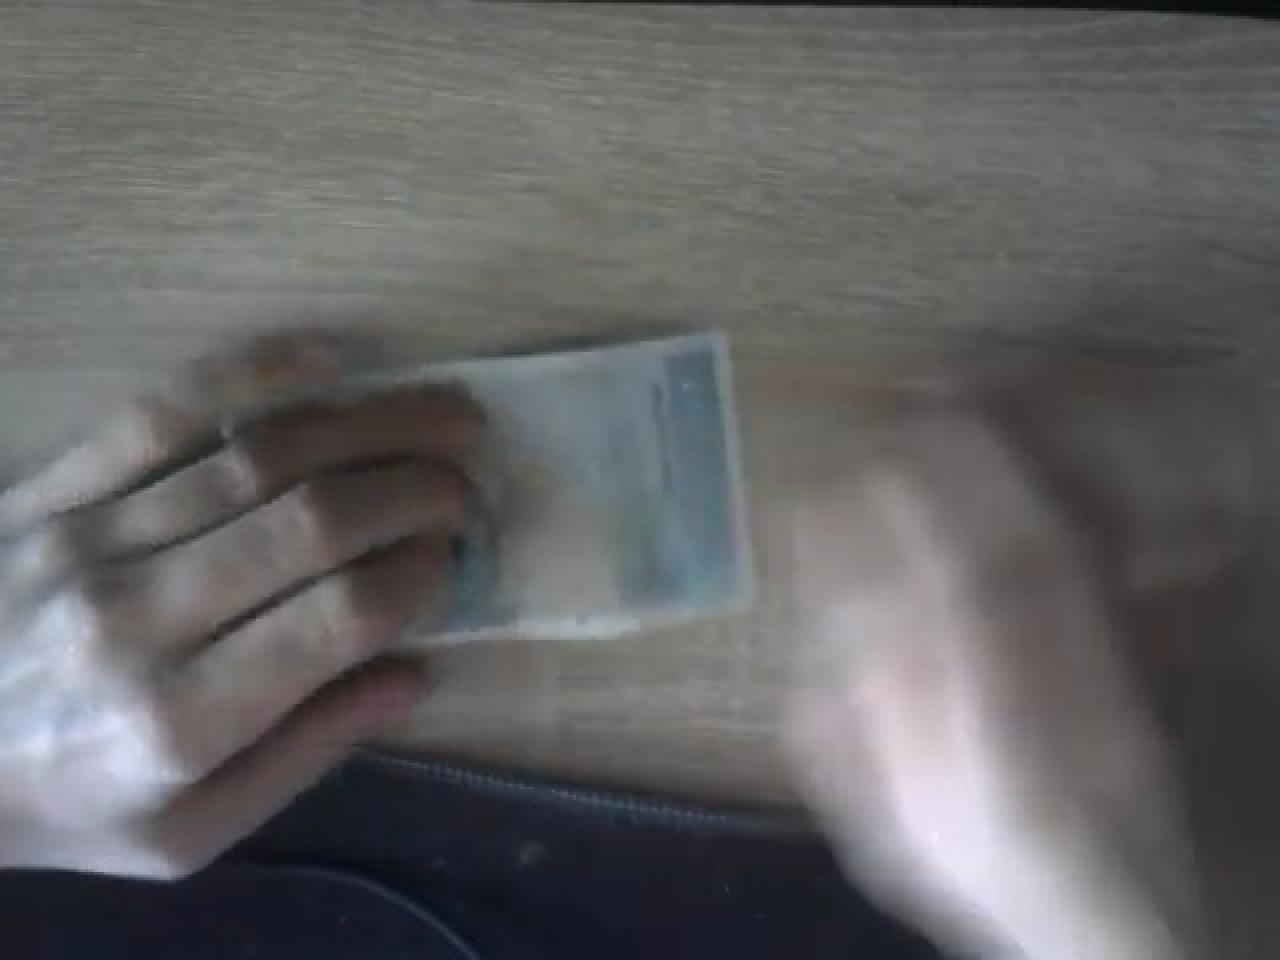20leva: (214, 326, 760, 648)
